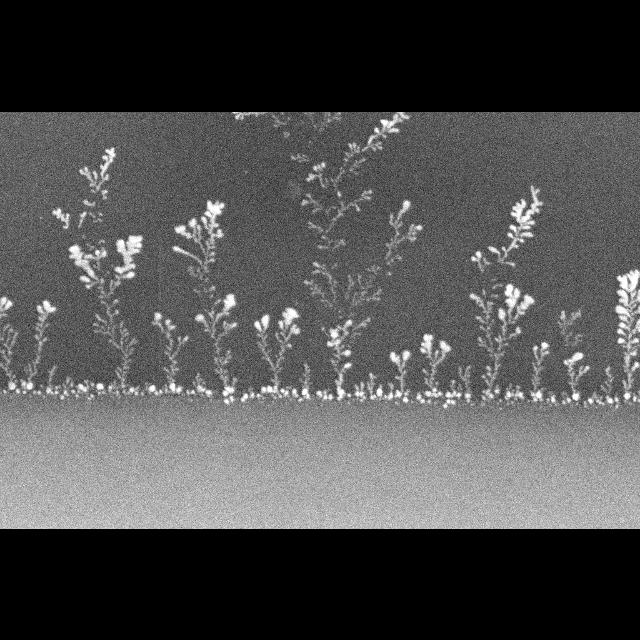dendrites: (69, 235, 142, 394), (469, 284, 533, 399), (195, 293, 237, 403), (487, 185, 544, 266), (172, 199, 224, 281), (254, 306, 300, 398), (615, 268, 640, 404), (344, 111, 408, 164), (21, 300, 56, 394), (151, 311, 189, 393), (367, 350, 410, 401), (385, 199, 422, 258), (78, 146, 116, 199), (420, 333, 451, 397), (327, 189, 371, 231), (563, 351, 590, 400), (529, 341, 549, 401), (327, 318, 353, 358), (0, 348, 20, 392), (330, 358, 351, 399), (232, 111, 287, 126), (303, 278, 332, 306), (312, 261, 337, 293), (601, 365, 619, 402), (558, 309, 581, 334), (306, 161, 328, 187), (298, 362, 312, 402), (443, 378, 462, 407), (192, 370, 212, 396), (351, 288, 381, 305), (459, 364, 472, 403), (300, 193, 323, 212), (46, 364, 60, 394), (320, 111, 342, 130), (0, 330, 18, 353), (471, 250, 490, 271), (52, 207, 70, 228), (241, 385, 263, 400), (583, 391, 605, 406), (71, 380, 89, 396), (505, 383, 523, 399), (145, 381, 164, 395), (350, 157, 365, 174), (331, 167, 345, 185), (352, 317, 370, 330), (0, 297, 12, 316), (355, 382, 366, 402), (290, 153, 309, 162), (108, 385, 121, 397), (308, 220, 322, 231), (547, 391, 558, 405), (316, 389, 332, 398), (388, 253, 402, 263), (78, 211, 86, 228), (332, 238, 345, 248), (60, 384, 69, 398), (366, 264, 380, 273), (572, 334, 582, 345), (562, 391, 571, 403), (565, 331, 572, 346), (304, 111, 313, 122), (82, 199, 96, 206), (321, 234, 333, 242), (416, 392, 425, 402), (348, 273, 353, 290), (322, 324, 328, 336), (292, 388, 299, 398), (325, 206, 336, 212), (633, 392, 640, 401), (203, 286, 215, 291), (186, 388, 196, 394), (96, 382, 103, 389), (338, 328, 345, 335), (93, 217, 102, 222), (351, 332, 360, 337), (2, 323, 8, 330), (283, 130, 290, 136), (33, 389, 41, 394), (318, 244, 328, 248), (492, 284, 502, 288), (388, 382, 394, 388), (358, 273, 361, 284), (345, 290, 349, 298), (89, 211, 95, 216), (333, 262, 338, 268), (98, 239, 105, 243), (98, 390, 105, 394), (66, 376, 70, 383), (482, 288, 486, 295), (8, 326, 13, 331), (491, 293, 498, 296), (194, 288, 199, 292), (313, 123, 318, 127), (615, 403, 619, 408), (459, 384, 462, 390), (387, 271, 391, 275), (428, 398, 432, 402), (70, 381, 73, 386), (7, 335, 10, 340), (338, 191, 341, 196), (99, 212, 102, 216), (90, 245, 94, 248), (91, 382, 94, 386), (3, 389, 7, 392), (366, 284, 370, 287), (245, 169, 248, 173), (395, 401, 399, 404), (435, 381, 438, 385), (492, 277, 496, 280), (638, 389, 640, 394), (210, 294, 213, 297), (91, 393, 94, 396), (361, 285, 364, 288), (280, 111, 283, 114), (499, 398, 502, 401), (510, 399, 513, 402), (309, 139, 311, 142), (499, 406, 502, 408), (41, 384, 43, 386), (43, 394, 45, 396), (288, 116, 290, 118), (507, 402, 509, 404)
